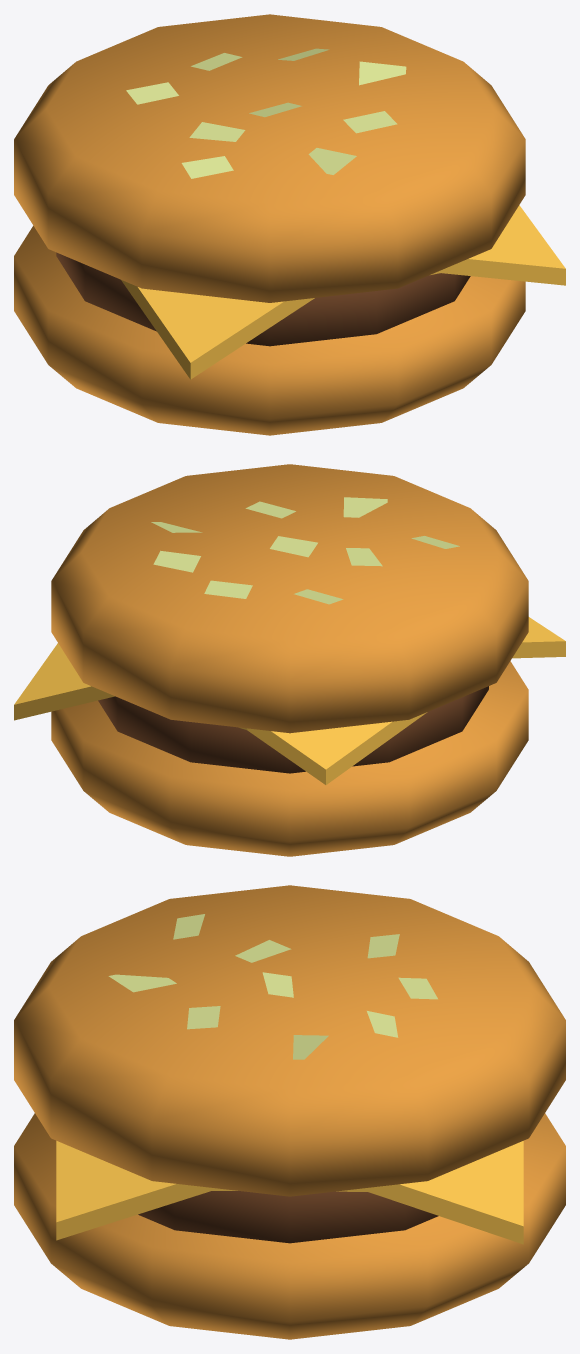
File: Burger(Plain).glb
The picture shows the model from 3 angles, top to bottom: view 1: azimuth 30°, elevation 25°; view 2: azimuth 150°, elevation 25°; view 3: azimuth 270°, elevation 25°; orthographic projection. The views are drawn at different scales.
Parts seen in each view (by area): view 1: Cylinder.024; view 2: Cylinder.024; view 3: Cylinder.024.
Part boxes in pixels (x1,y1,x2,y2): Cylinder.024: (14, 14, 565, 435); Cylinder.024: (14, 464, 565, 856); Cylinder.024: (14, 885, 565, 1339).
Bounding box in the file's own units: 0.4718 × 0.2442 × 0.4718.
